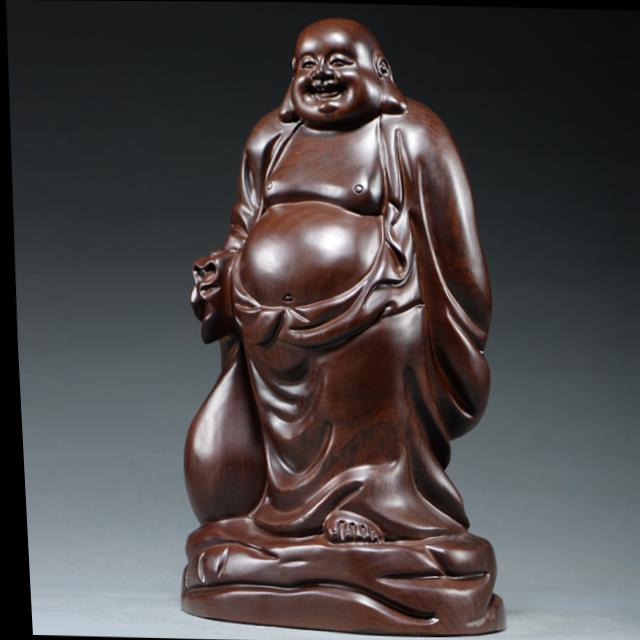Smiling Buddha: (168, 11, 504, 485)
